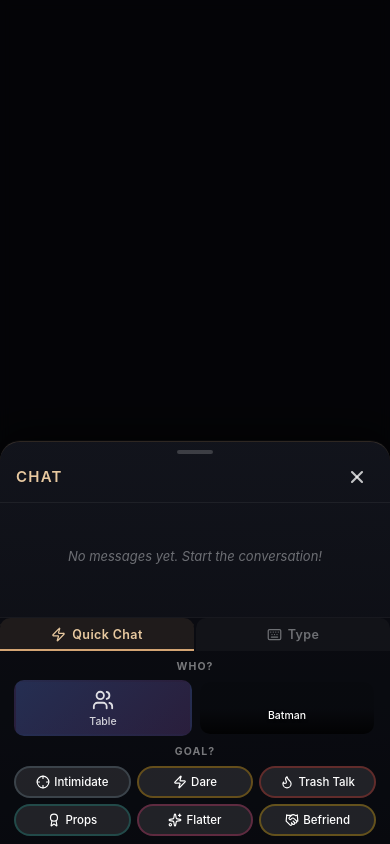
VT-03: MobileChatSheet — tabs, messages, guest restrictions › Case 4: Tab switching › keyboard tab shows text input and send button
Note: Switch to keyboard tab
Click the tab with aria-label "keyboard" at (293, 634), box left=196, top=618, right=389, bottom=650
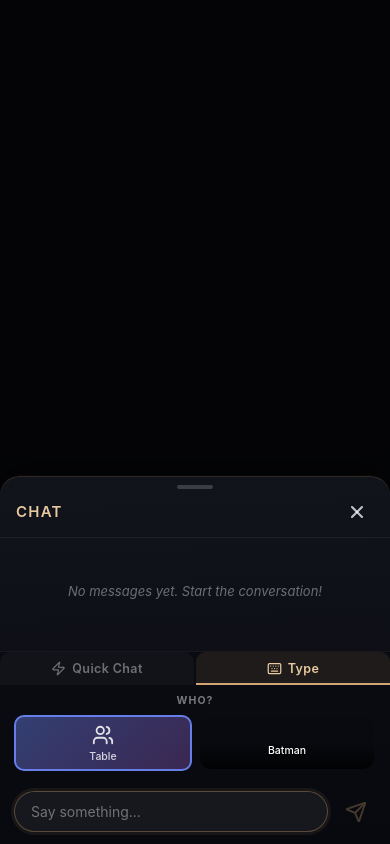
Check: the field with class "mcs-text-input" is shown, box left=14, top=791, right=328, bottom=832
Check: the button with class "mcs-send-btn" is shown, box left=336, top=792, right=376, bottom=832
